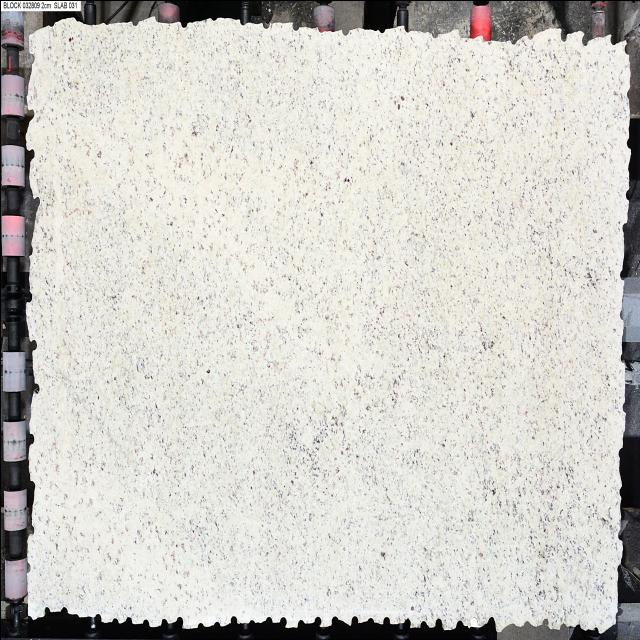chapa: (26, 20, 629, 627)
veio: (24, 103, 37, 123), (28, 48, 37, 70), (29, 192, 41, 208), (24, 147, 36, 160)
